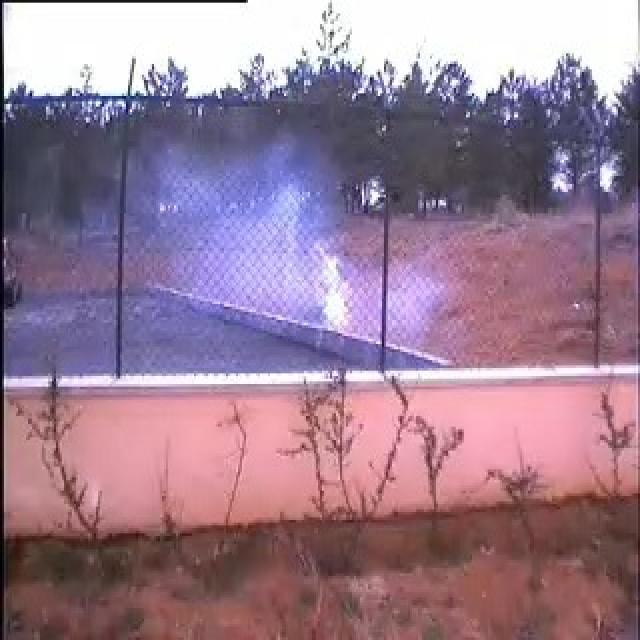smoke: (138, 123, 433, 341)
